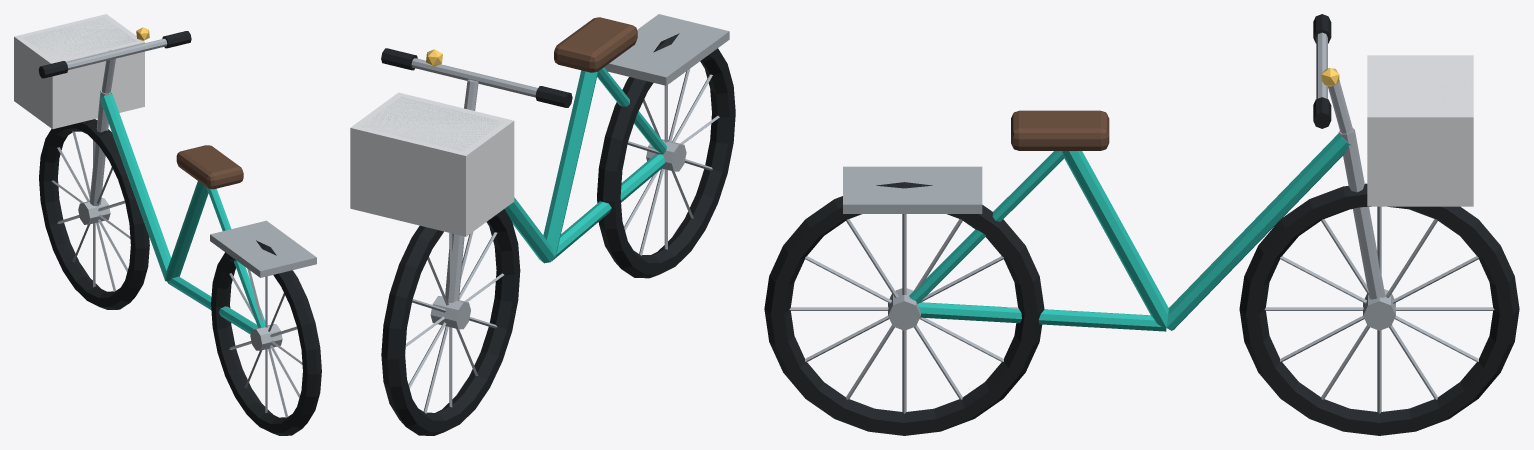
Rendered from st_bike.glb.
3 renders of one model, left to right at view 1: azimuth 30°, elevation 25°; view 2: azimuth 150°, elevation 25°; view 3: azimuth 270°, elevation 25°, orthographic. The views are drawn at different scales.
Visible parts, largest first — view 1: Cube.001, Torus, Torus.001, Cube.003, Cone.012, Cube, Cone.014, Cube.002, Cone.013, Cone.015, Cone.016, Cone.018 (+10 smaller); view 2: Cube.001, Torus, Torus.001, Cube.003, Cone.014, Cube, Cube.002, Cone.013, Cone.018, Cone.012, Cone.015, Cylinder (+10 smaller); view 3: Torus, Cube.001, Torus.001, Cube.003, Cone.012, Cube, Cone.014, Cone.013, Cone.016, Cone.015, Cylinder.001, Cylinder (+11 smaller).
Boxes of the visible parts, x1=… form: Cube.001: x1=14, y1=14, x2=144, y2=129; Torus: x1=39, y1=119, x2=149, y2=309; Torus.001: x1=211, y1=240, x2=321, y2=435; Cube.003: x1=210, y1=220, x2=316, y2=277; Cone.012: x1=100, y1=94, x2=170, y2=281; Cube: x1=176, y1=145, x2=243, y2=189; Cone.014: x1=165, y1=181, x2=208, y2=283; Cube.002: x1=23, y1=17, x2=136, y2=56; Cone.013: x1=167, y1=276, x2=257, y2=334; Cone.015: x1=206, y1=187, x2=265, y2=327; Cone.016: x1=89, y1=89, x2=111, y2=206; Cone.018: x1=66, y1=38, x2=167, y2=70; Cube.001: x1=350, y1=92, x2=514, y2=236; Torus: x1=381, y1=209, x2=520, y2=435; Torus.001: x1=597, y1=33, x2=735, y2=278; Cube.003: x1=604, y1=14, x2=729, y2=85; Cone.014: x1=543, y1=70, x2=597, y2=257; Cube: x1=554, y1=17, x2=637, y2=72; Cube.002: x1=362, y1=97, x2=503, y2=151; Cone.013: x1=552, y1=154, x2=665, y2=260; Cone.018: x1=411, y1=58, x2=537, y2=97; Cone.012: x1=504, y1=197, x2=554, y2=263; Cone.015: x1=597, y1=67, x2=666, y2=154; Cylinder: x1=430, y1=296, x2=470, y2=329; Torus: x1=1239, y1=183, x2=1519, y2=435; Cube.001: x1=1367, y1=55, x2=1473, y2=206; Torus.001: x1=764, y1=182, x2=1044, y2=435; Cube.003: x1=843, y1=166, x2=982, y2=213; Cone.012: x1=1166, y1=133, x2=1351, y2=330; Cube: x1=1011, y1=110, x2=1109, y2=150; Cone.014: x1=1061, y1=151, x2=1168, y2=329; Cone.013: x1=918, y1=302, x2=1166, y2=331; Cone.016: x1=1338, y1=128, x2=1385, y2=299; Cone.015: x1=909, y1=151, x2=1064, y2=303; Cylinder.001: x1=888, y1=288, x2=920, y2=330; Cylinder: x1=1363, y1=289, x2=1395, y2=330.
Size of the model in its own units: 57 by 105 by 184.
